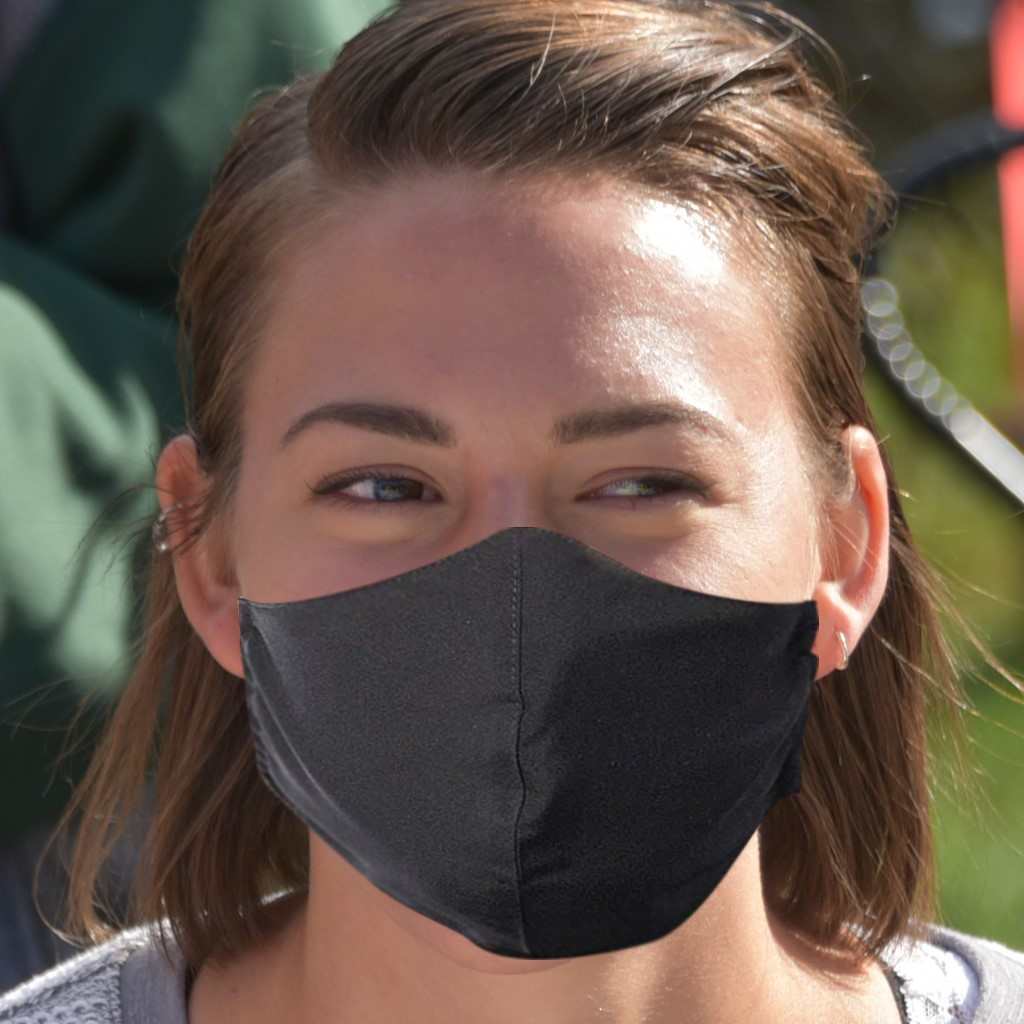con_mascara: (202, 116, 844, 949)
